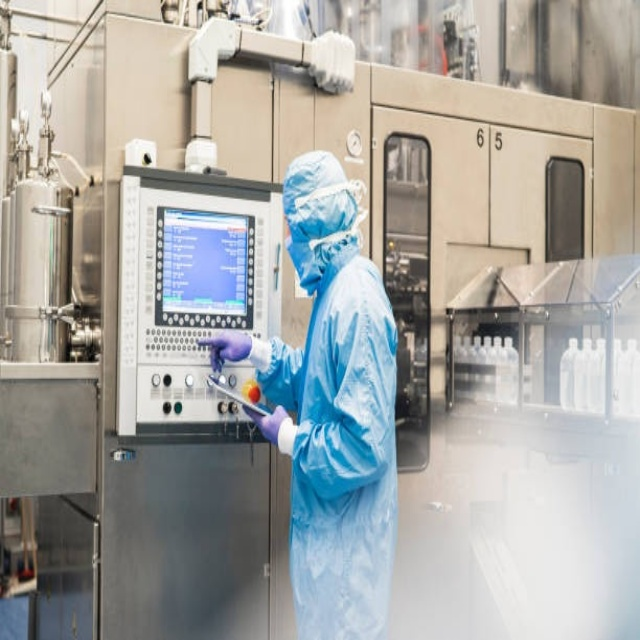Guantes: (193, 324, 252, 376), (241, 396, 291, 452)
